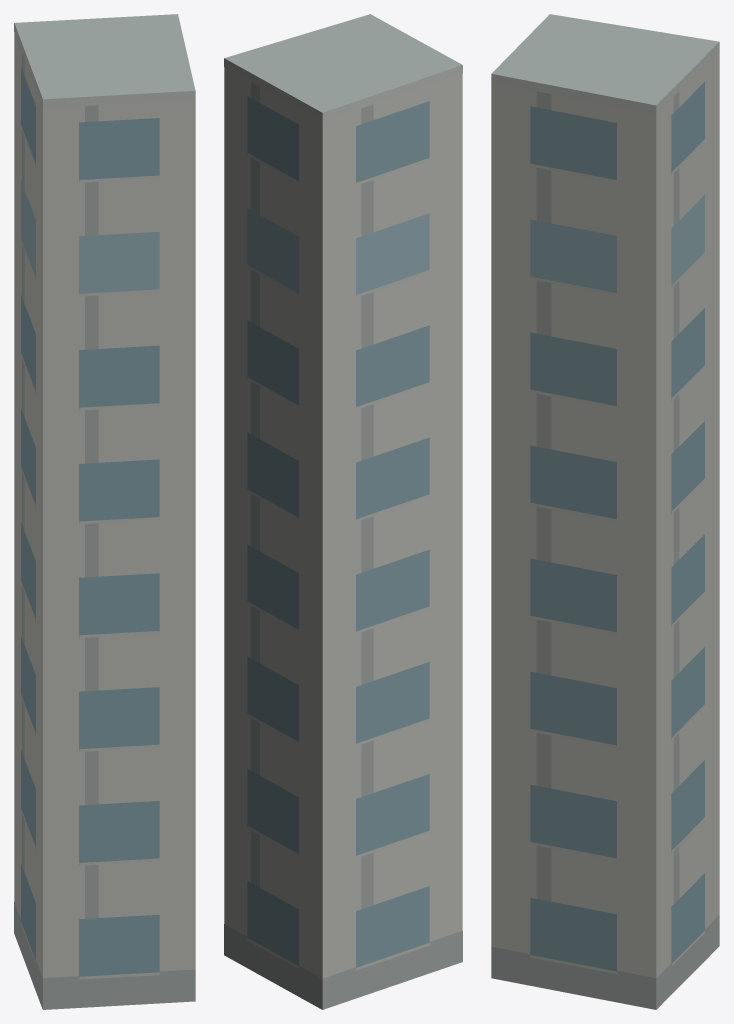
Rendered from survey-upis-32969658.glb.
3 renders of one model, left to right at view 1: azimuth 30°, elevation 25°; view 2: azimuth 150°, elevation 25°; view 3: azimuth 270°, elevation 25°, orthographic.
Parts seen in each view (by area): view 1: survey-upis-32969658.tmp; view 2: survey-upis-32969658.tmp; view 3: survey-upis-32969658.tmp.
Boxes of the visible parts, x1,y1,x2,y2 form: survey-upis-32969658.tmp: [14, 14, 195, 1009]; survey-upis-32969658.tmp: [224, 14, 462, 1009]; survey-upis-32969658.tmp: [491, 14, 719, 1009].
Bounding box in the file's own units: 5.3 × 24.4 × 5.59.
